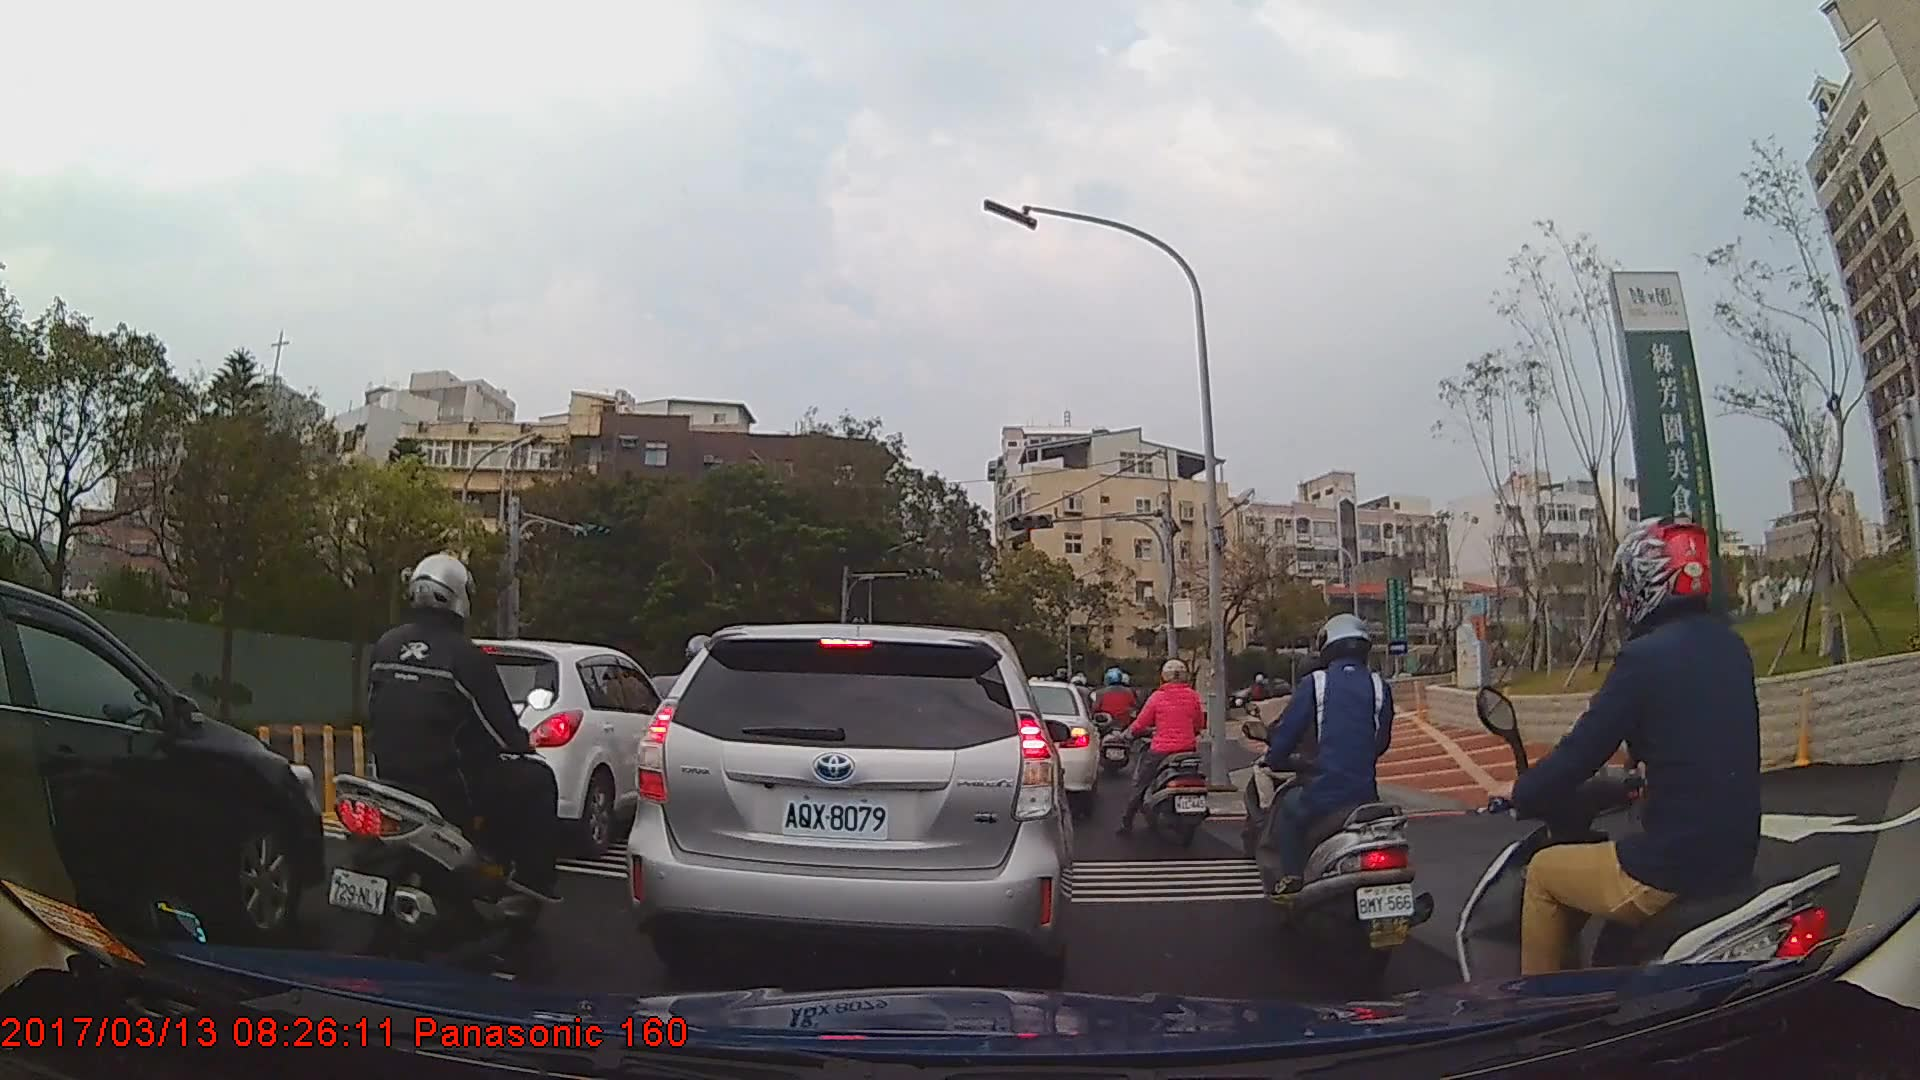rider: (1457, 516, 1848, 1076), (322, 552, 567, 985), (1248, 613, 1427, 1001), (1132, 662, 1214, 854), (1091, 666, 1140, 775)
vehicle: (625, 623, 1075, 994), (0, 574, 324, 944), (373, 637, 667, 858), (994, 678, 1101, 810)
